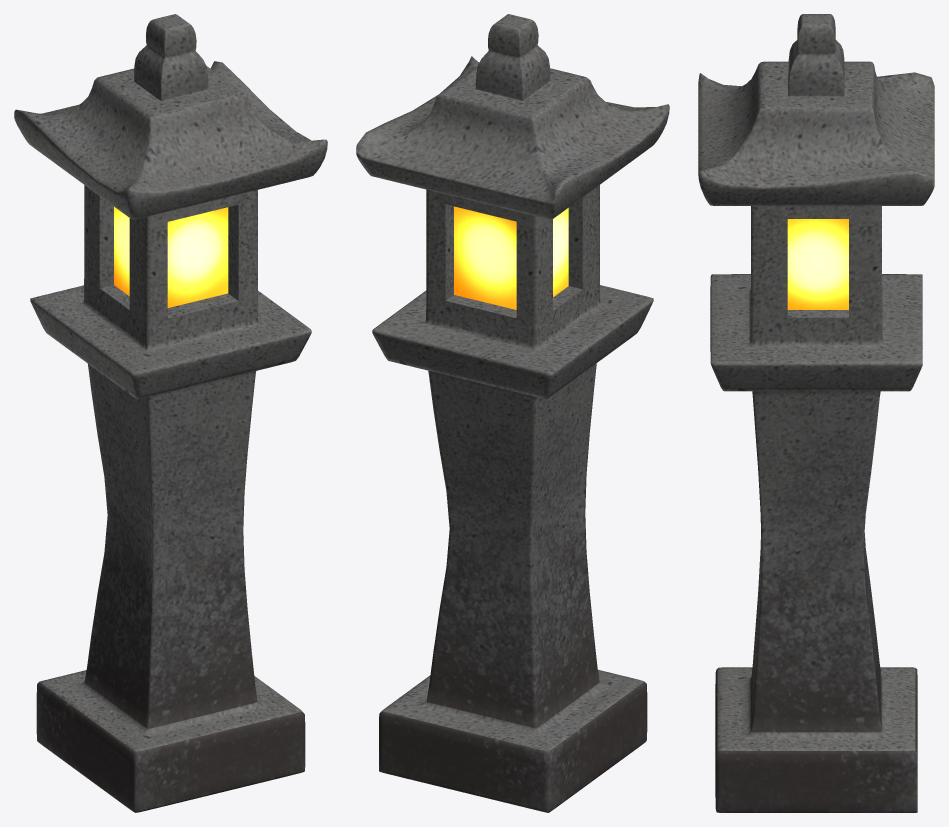
File: RockLantern.fbx
3 views of the same model, side by side, from view 1: azimuth 30°, elevation 25°; view 2: azimuth 150°, elevation 25°; view 3: azimuth 270°, elevation 25° (orthographic). The views are drawn at different scales.
Parts seen in each view (by area): view 1: Cube.027; view 2: Cube.027; view 3: Cube.027.
Boxes of the visible parts, x1,y1,x2,y2 form: Cube.027: (14, 14, 327, 812); Cube.027: (356, 14, 669, 812); Cube.027: (698, 14, 934, 812).
Bounding box in the file's own units: 233 × 816 × 233.
Materials: 1 (1 with a texture image).
